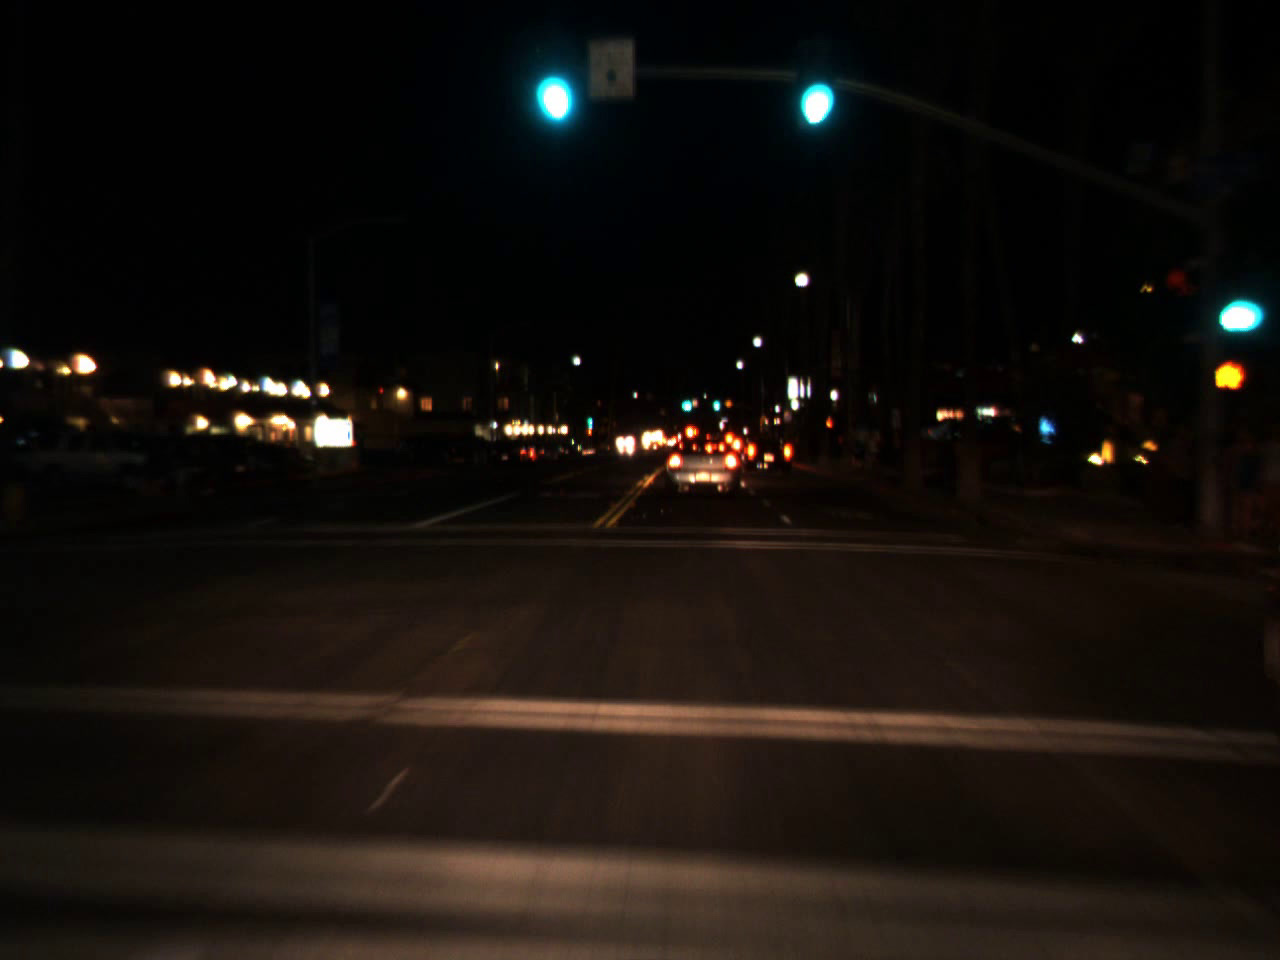go: (1206, 266, 1258, 344), (792, 50, 835, 134), (534, 44, 573, 131), (677, 389, 693, 413), (711, 392, 721, 410), (586, 406, 593, 430)
